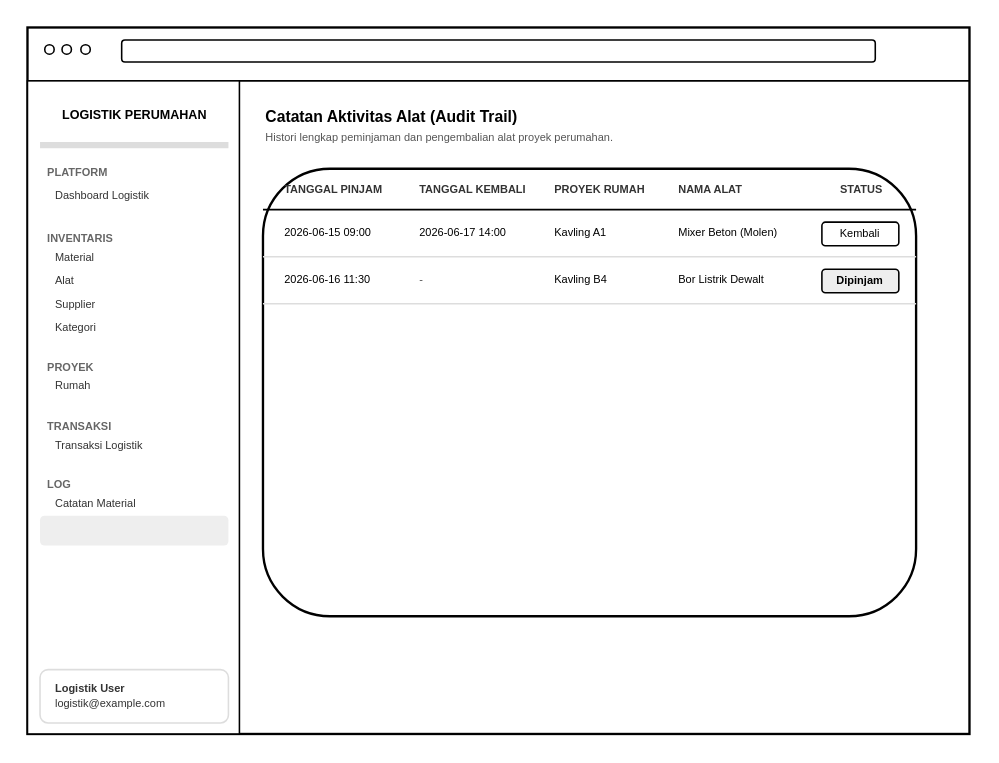
Image size: 999x763. Some labels were removed from this diagram. The shapes that lost their labels are listed below. From the top down, each one's centre as x and y in pixels, then its label:
At (497,50): "http://localhost/logistik/tool-log".
At (133,530): "Catatan Alat".
